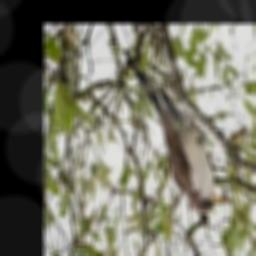Cuckoo: (123, 46, 222, 215)
